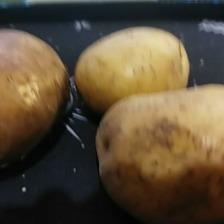Damaged potato: (94, 83, 223, 224), (1, 25, 71, 189)
Potato: (75, 26, 192, 114)
